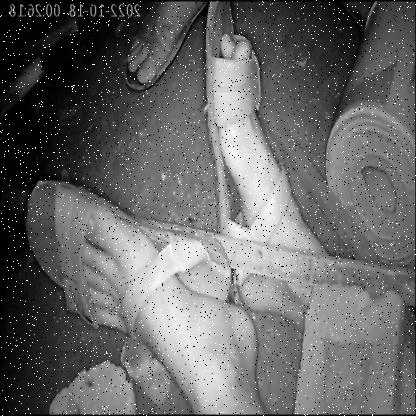leg: (18, 174, 274, 416), (199, 1, 331, 328), (119, 2, 202, 96)
